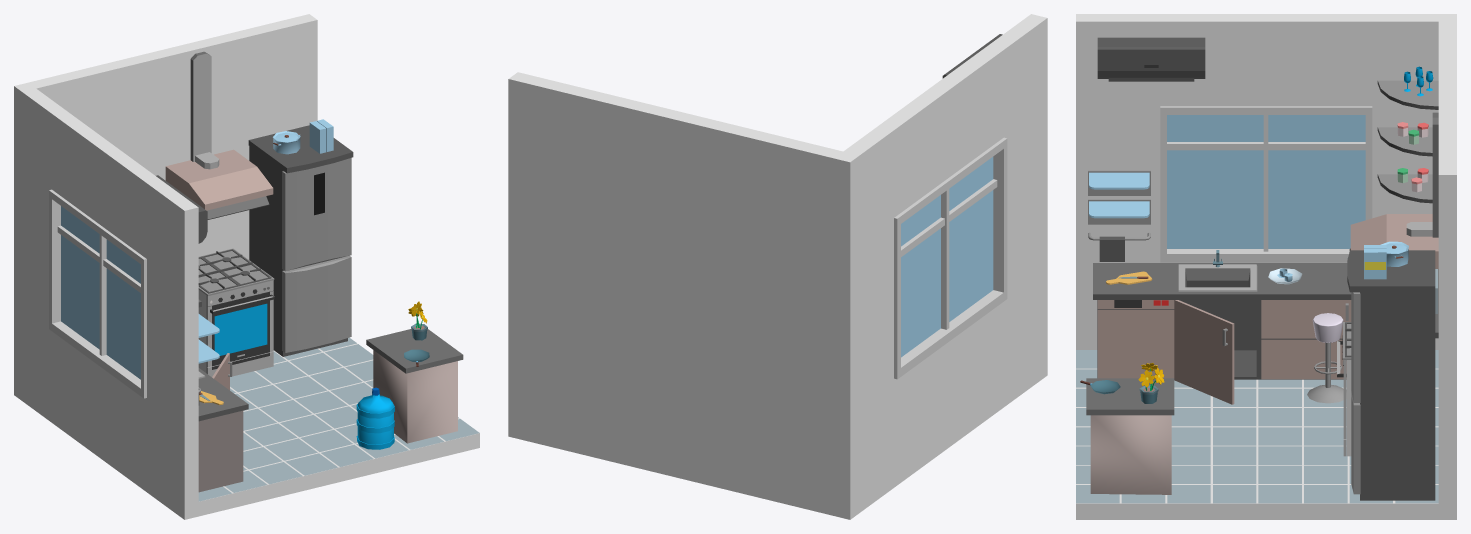
File: room_18.glb
3 renders of one model, left to right at view 1: azimuth 30°, elevation 25°; view 2: azimuth 150°, elevation 25°; view 3: azimuth 270°, elevation 25°, orthographic. The views are drawn at different scales.
Parts seen in each view (by area): view 1: Walls_006.002, kitchen_item_043.001, Walls_006.004, floor_008.001, window_019.001, Walls_006.003, Walls_006.005, Walls_006.006, kitchen_item_031.001, kitchen_item_041.001, kitchen_item_042.001, Walls_006.001 (+3 smaller); view 2: Walls_006.002, Walls_006.003, window_019.001, Walls_006.004, Walls_006.005, Walls_006.006; view 3: window_019.001, kitchen_item_040.001, floor_008.001, kitchen_item_043.001, Walls_006.006, Walls_006.004, Walls_006.002, Walls_006.003, kitchen_item_041.001, Walls_006.001, electronics_028.001, kitchen_item_042.001 (+10 smaller).
Boxes of the visible parts, x1=… form: Walls_006.002: x1=28, y1=14, x2=317, y2=259; kitchen_item_043.001: x1=248, y1=125, x2=353, y2=356; Walls_006.004: x1=144, y1=178, x2=198, y2=519; floor_008.001: x1=198, y1=337, x2=479, y2=501; window_019.001: x1=49, y1=189, x2=146, y2=398; Walls_006.003: x1=14, y1=82, x2=67, y2=424; Walls_006.005: x1=54, y1=333, x2=143, y2=489; Walls_006.006: x1=54, y1=112, x2=157, y2=256; kitchen_item_031.001: x1=198, y1=248, x2=274, y2=376; kitchen_item_041.001: x1=366, y1=329, x2=463, y2=443; kitchen_item_042.001: x1=165, y1=51, x2=273, y2=219; Walls_006.001: x1=198, y1=343, x2=479, y2=516; Walls_006.002: x1=508, y1=72, x2=842, y2=515; Walls_006.003: x1=834, y1=124, x2=897, y2=519; window_019.001: x1=894, y1=137, x2=1007, y2=379; Walls_006.004: x1=984, y1=14, x2=1047, y2=409; Walls_006.005: x1=897, y1=304, x2=1000, y2=484; Walls_006.006: x1=881, y1=48, x2=1000, y2=215; window_019.001: x1=1160, y1=106, x2=1372, y2=262; kitchen_item_040.001: x1=1093, y1=250, x2=1438, y2=404; floor_008.001: x1=1076, y1=350, x2=1438, y2=503; kitchen_item_043.001: x1=1347, y1=250, x2=1435, y2=500; Walls_006.006: x1=1166, y1=14, x2=1366, y2=106; Walls_006.004: x1=1076, y1=14, x2=1166, y2=349; Walls_006.002: x1=1438, y1=21, x2=1456, y2=519; Walls_006.003: x1=1366, y1=14, x2=1456, y2=349; kitchen_item_041.001: x1=1086, y1=378, x2=1174, y2=494; Walls_006.001: x1=1076, y1=368, x2=1438, y2=519; electronics_028.001: x1=1097, y1=37, x2=1205, y2=81; kitchen_item_042.001: x1=1350, y1=112, x2=1438, y2=268.
Size of the model in its own units: 4.24 by 4.2 by 4.2.
1 material, 1 textured.
